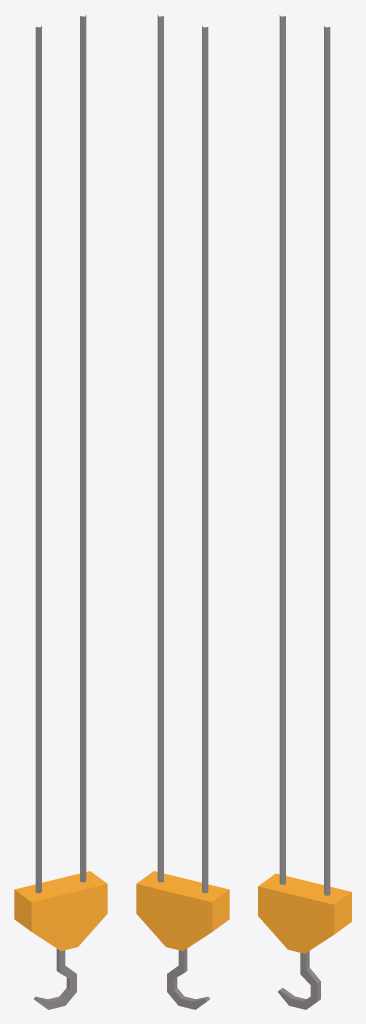
File: crane-docks-hook.glb
3 renders of one model, left to right at view 1: azimuth 30°, elevation 25°; view 2: azimuth 150°, elevation 25°; view 3: azimuth 330°, elevation 25°, orthographic.
Parts seen in each view (by area): view 1: crane-docks-hook; view 2: crane-docks-hook; view 3: crane-docks-hook.
Boxes of the visible parts, left/top/right/bottom form: crane-docks-hook: left=14, top=15, right=107, bottom=1009; crane-docks-hook: left=136, top=15, right=229, bottom=1009; crane-docks-hook: left=258, top=15, right=351, bottom=1009.
Bounding box in the file's own units: 1.2 × 14.87 × 0.48.
1 material, 1 textured.
